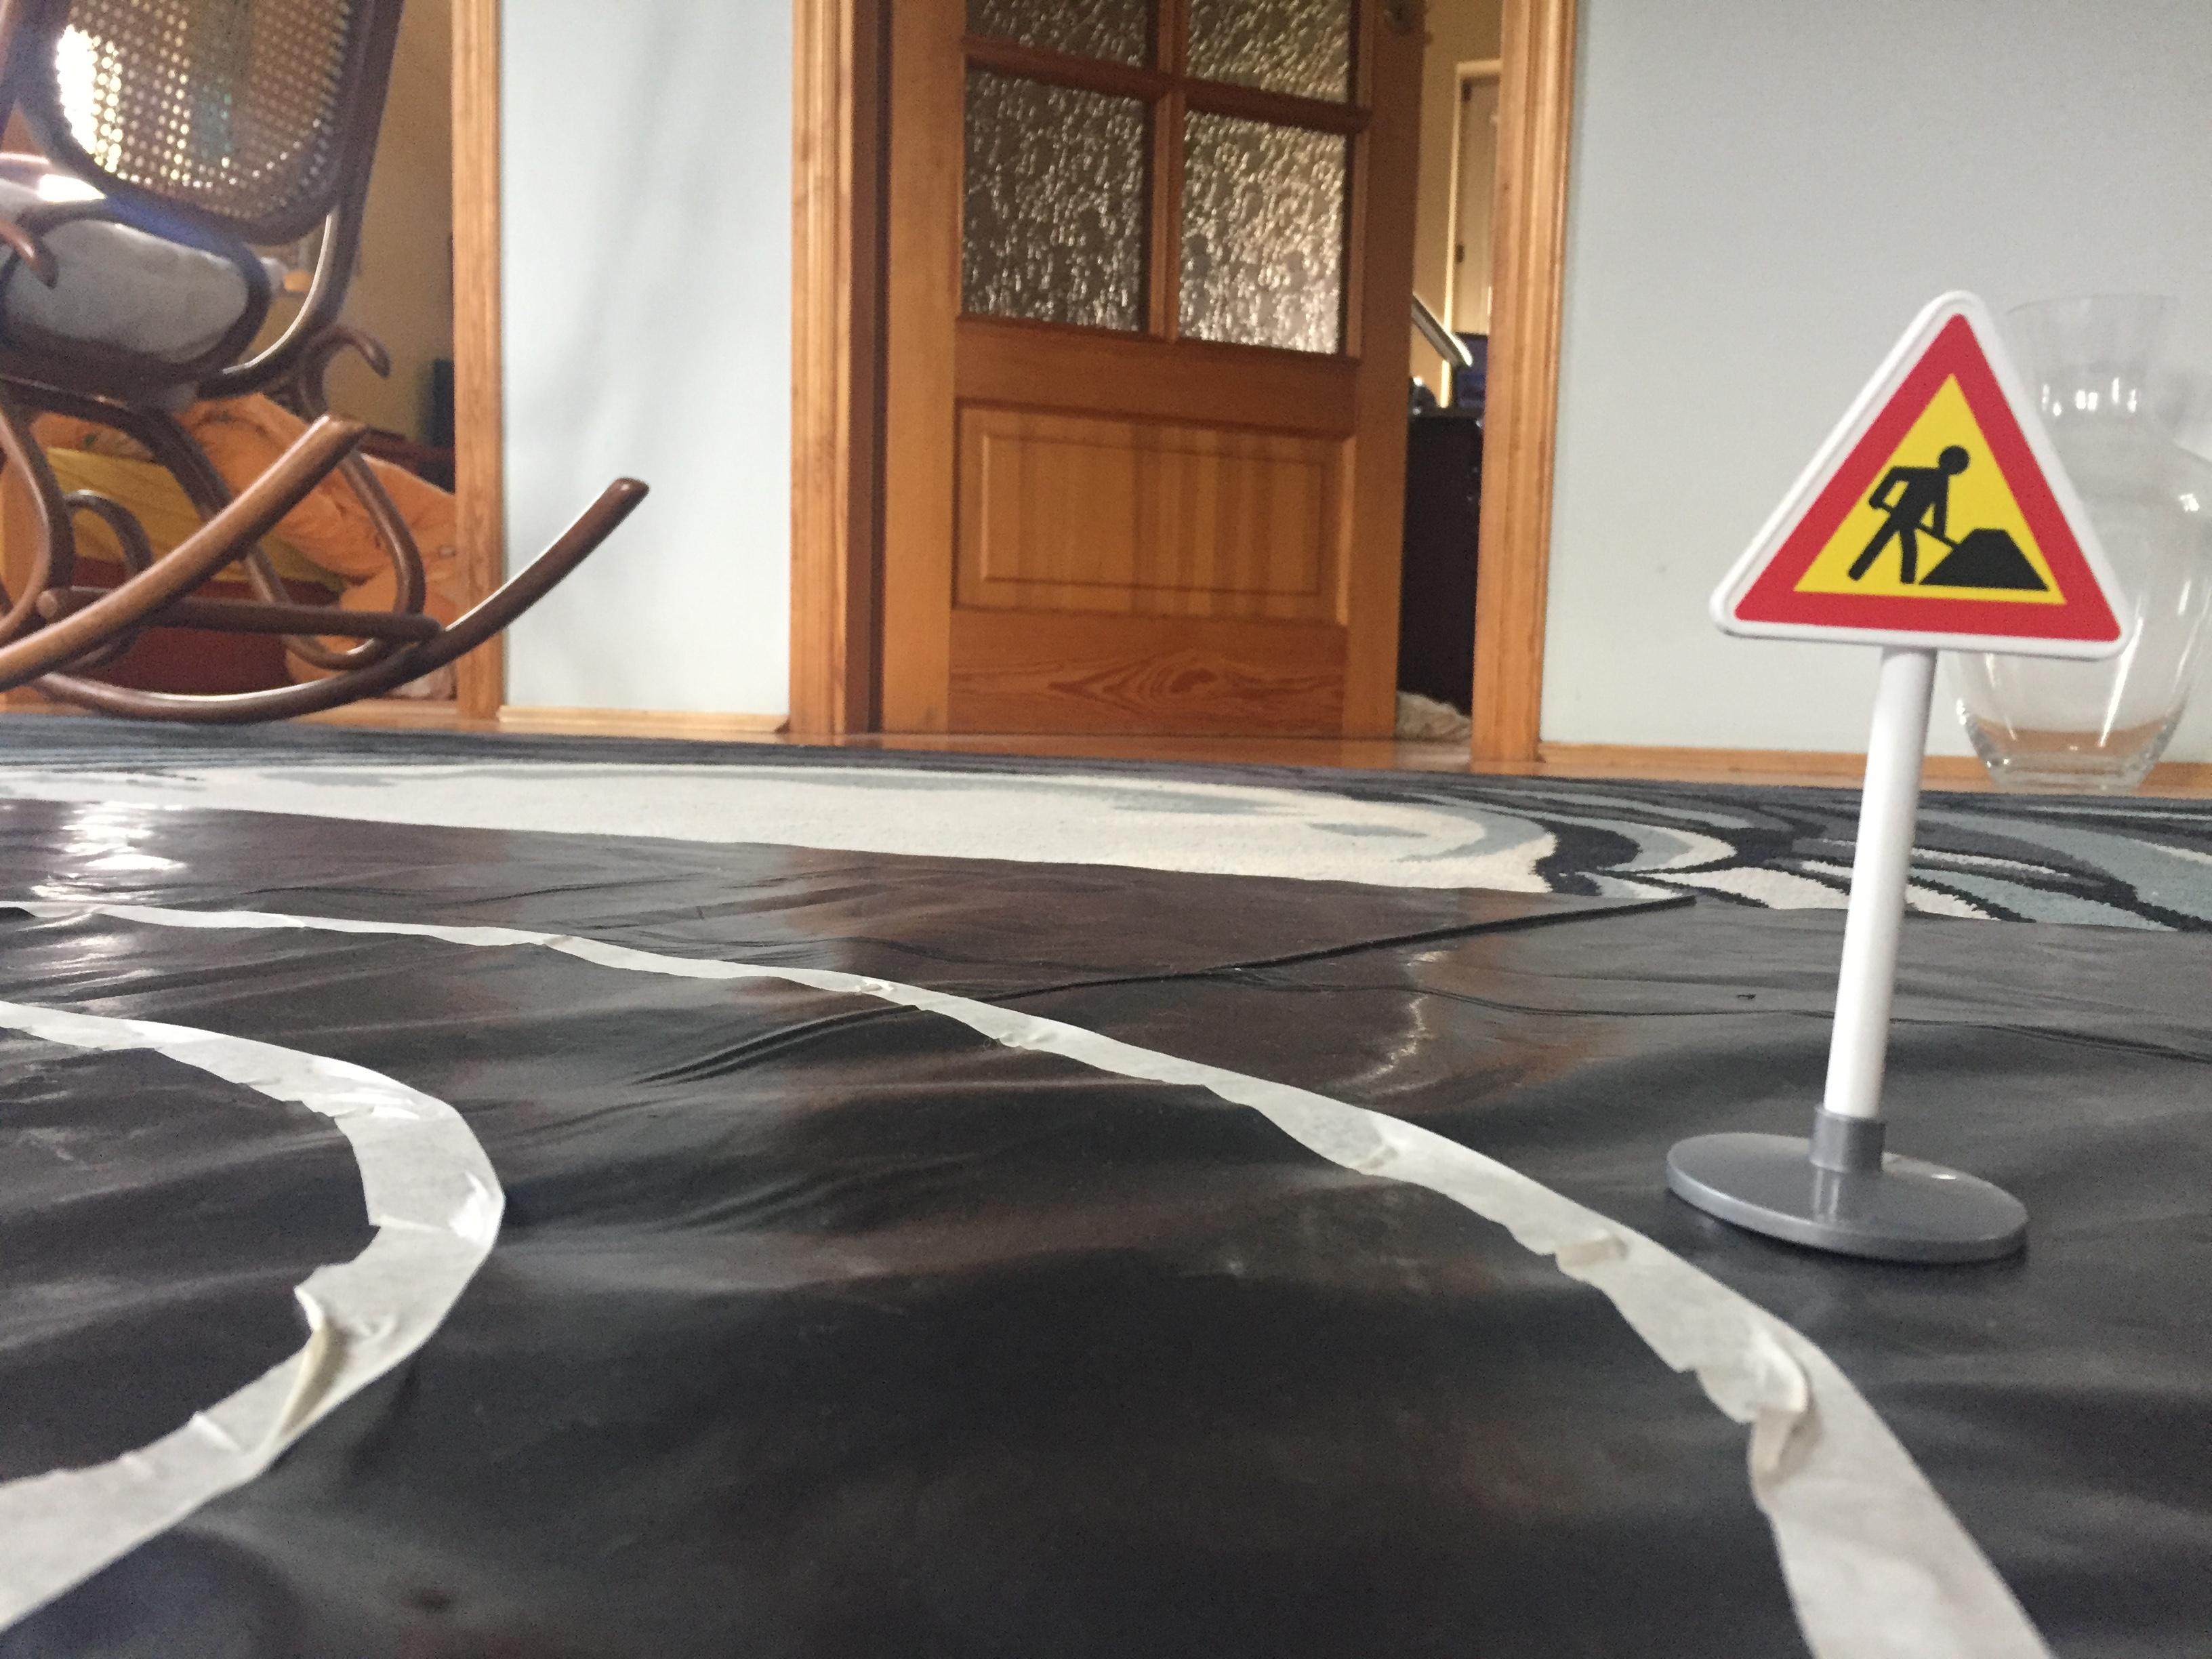work: (1700, 289, 2142, 667)
